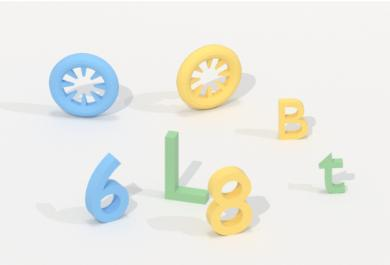0-TronLo: (47, 49, 121, 122), (172, 40, 244, 115)
6: (81, 149, 132, 227)
8: (207, 163, 255, 240)
B: (274, 94, 312, 145)
L: (162, 126, 210, 207)
t: (314, 148, 351, 199)
